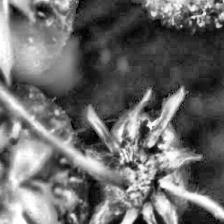Gray Mold: (77, 86, 224, 224)
